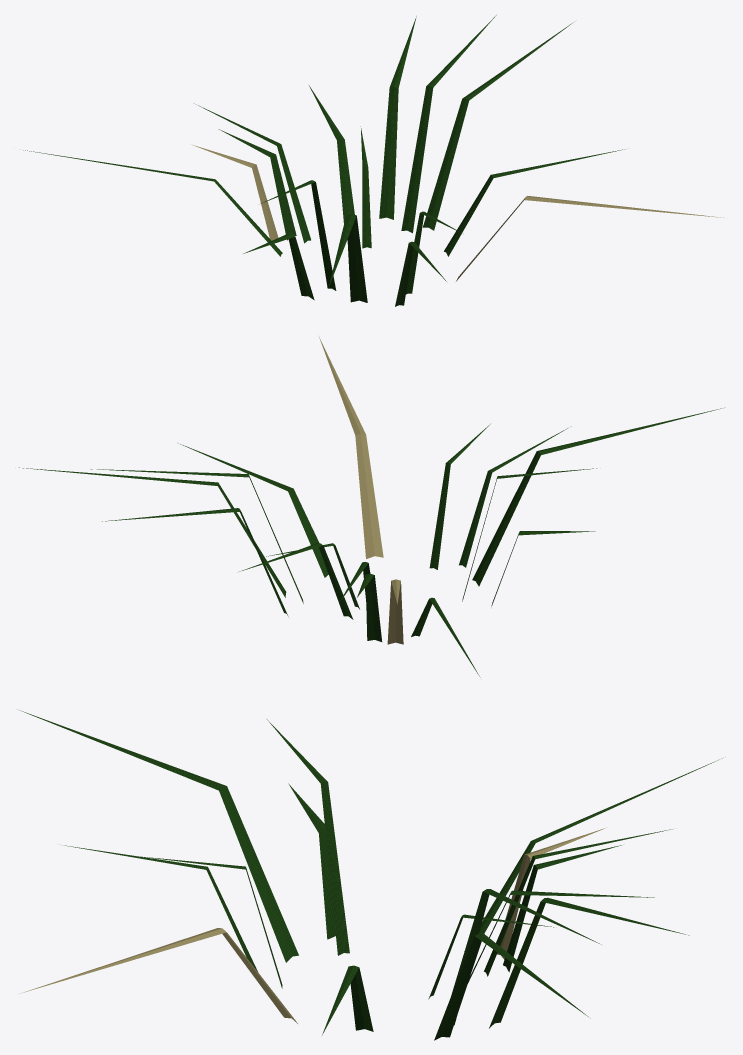
File: Woodland_Grass_Tuft_03_LOD2.fbx
3 renders of one model, top to bottom at view 1: azimuth 30°, elevation 25°; view 2: azimuth 150°, elevation 25°; view 3: azimuth 270°, elevation 25°, orthographic. The views are drawn at different scales.
Parts seen in each view (by area): view 1: Woodland_Grass_Tuft_03_LOD2_Foliage; view 2: Woodland_Grass_Tuft_03_LOD2_Foliage; view 3: Woodland_Grass_Tuft_03_LOD2_Foliage.
Boxes of the visible parts, box(x1,y1,x2,y2) form: Woodland_Grass_Tuft_03_LOD2_Foliage: box(23, 15, 723, 306); Woodland_Grass_Tuft_03_LOD2_Foliage: box(19, 337, 724, 677); Woodland_Grass_Tuft_03_LOD2_Foliage: box(19, 710, 722, 1040).
Bounding box in the file's own units: 99.48 × 25.54 × 93.84.
